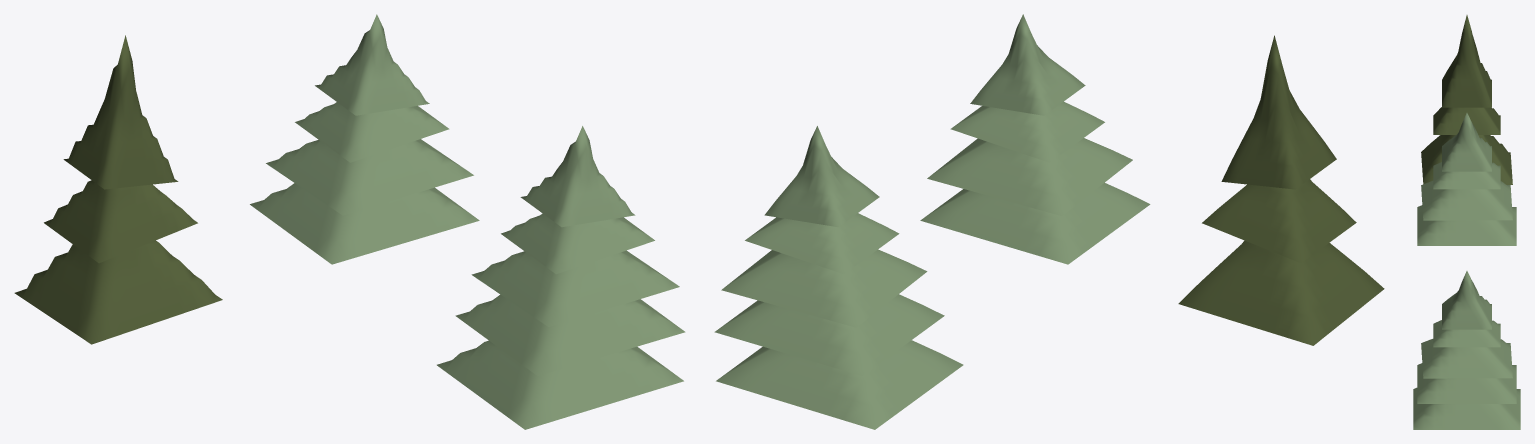
Rendered from OutDoors_TREES_Foliage3.fbx.
3 views of the same model, side by side, from view 1: azimuth 30°, elevation 25°; view 2: azimuth 150°, elevation 25°; view 3: azimuth 270°, elevation 25° (orthographic). The views are drawn at different scales.
Parts seen in each view (by area): view 1: Tree_Fern_Short_Leaves, Tree_Fern_Long_LongLeaves, Tree_Fern_Long_ShortLeaves; view 2: Tree_Fern_Short_Leaves, Tree_Fern_Long_LongLeaves, Tree_Fern_Long_ShortLeaves; view 3: Tree_Fern_Short_Leaves, Tree_Fern_Long_LongLeaves, Tree_Fern_Long_ShortLeaves.
Part boxes in pixels (x1,y1,x2,y2): Tree_Fern_Short_Leaves: (437, 126, 685, 429); Tree_Fern_Long_LongLeaves: (250, 14, 479, 264); Tree_Fern_Long_ShortLeaves: (14, 35, 222, 344); Tree_Fern_Short_Leaves: (714, 126, 963, 429); Tree_Fern_Long_LongLeaves: (920, 14, 1150, 264); Tree_Fern_Long_ShortLeaves: (1178, 35, 1384, 345); Tree_Fern_Short_Leaves: (1413, 271, 1520, 429); Tree_Fern_Long_LongLeaves: (1417, 113, 1516, 245); Tree_Fern_Long_ShortLeaves: (1421, 15, 1512, 184).
Bounding box in the file's own units: 2858 × 2066 × 741.
